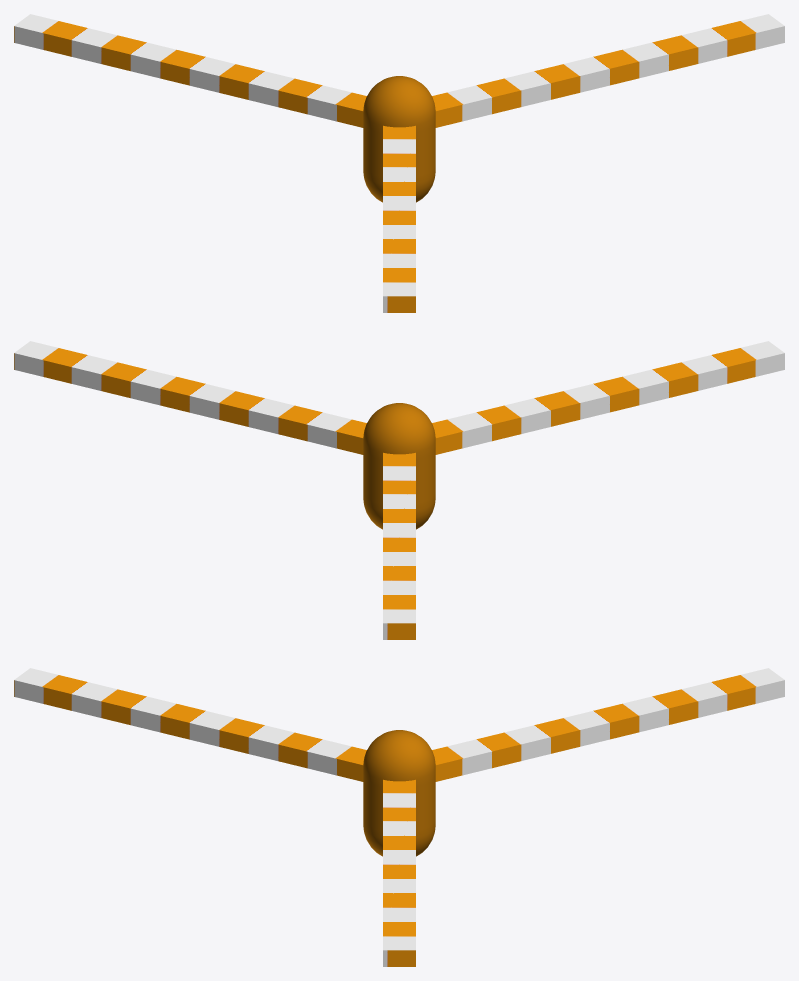
File: Large Fan.fbx
The picture shows the model from 3 angles, top to bottom: view 1: azimuth 30°, elevation 25°; view 2: azimuth 150°, elevation 25°; view 3: azimuth 270°, elevation 25°; orthographic projection.
Parts seen in each view (by area): view 1: Cube_2, Cube_3, Cube, large_fan; view 2: Cube, Cube_3, Cube_2, large_fan; view 3: Cube, Cube_2, Cube_3, large_fan.
Part boxes in pixels (x1=…): Cube_2: x1=14, y1=14, x2=366, y2=127; Cube_3: x1=432, y1=14, x2=784, y2=127; Cube: x1=383, y1=125, x2=415, y2=312; large_fan: x1=363, y1=76, x2=435, y2=202; Cube: x1=432, y1=341, x2=784, y2=454; Cube_3: x1=14, y1=341, x2=366, y2=454; Cube_2: x1=383, y1=452, x2=415, y2=639; large_fan: x1=363, y1=403, x2=435, y2=529; Cube: x1=14, y1=668, x2=366, y2=781; Cube_2: x1=432, y1=668, x2=784, y2=781; Cube_3: x1=383, y1=779, x2=415, y2=966; large_fan: x1=363, y1=730, x2=435, y2=856.
Size of the model in its own units: 2478 by 509 by 2861.
4 materials, 3 textured.
